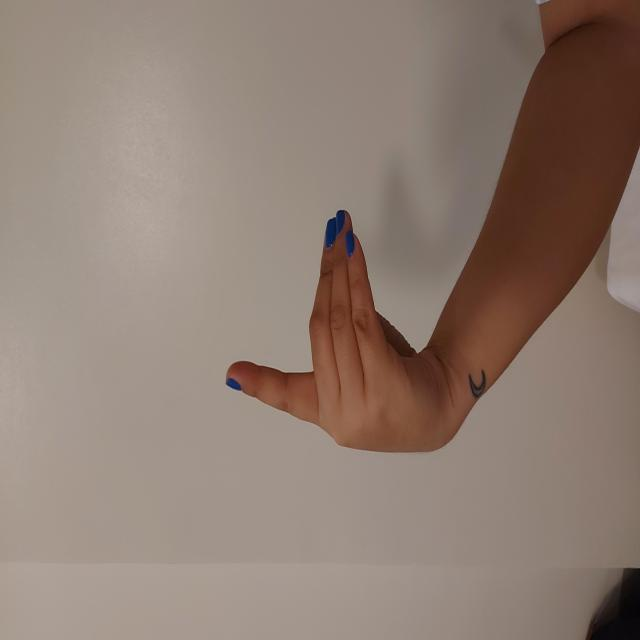D: (186, 224, 432, 453)
